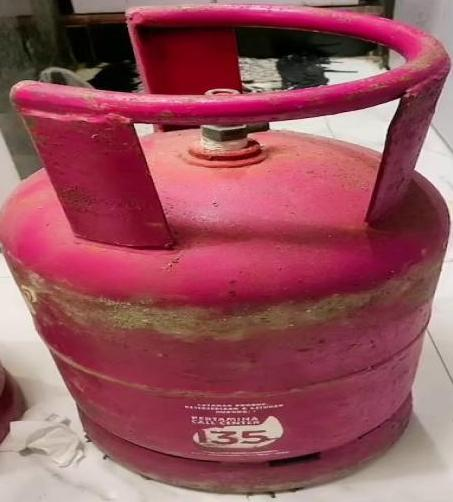cylinder: (1, 0, 453, 502)
